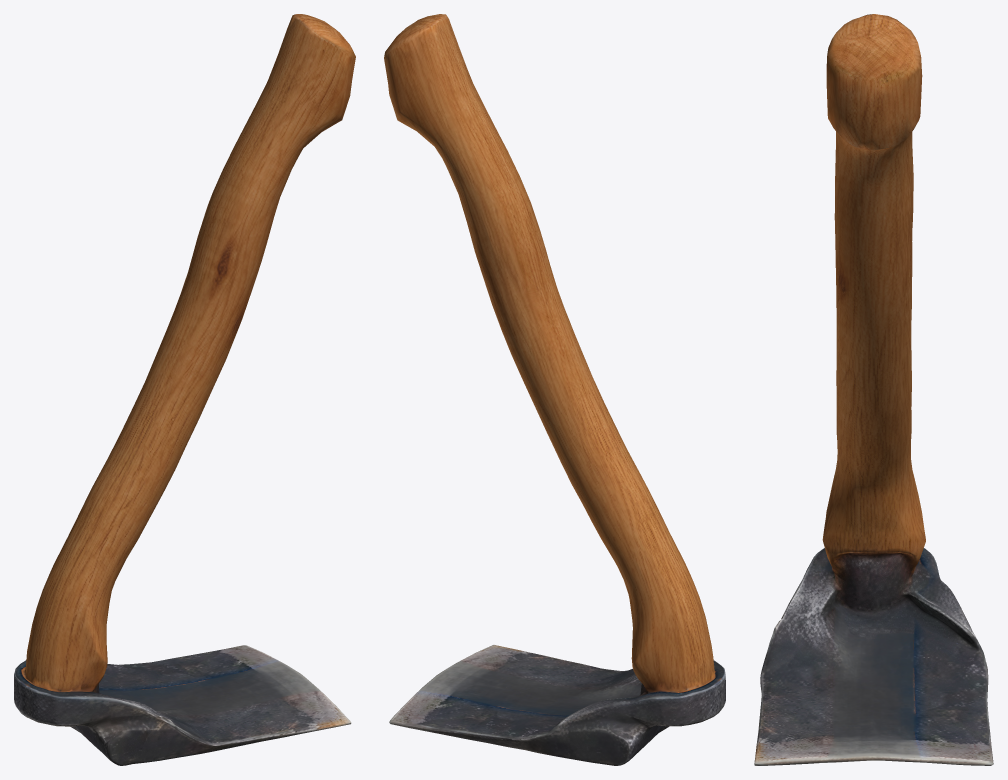
The model's file is tripo_convert_a5d09808-f4df-407c-b303-ae4b51be2f3b(Pacul).fbx.
3 views of the same model, side by side, from view 1: azimuth 30°, elevation 25°; view 2: azimuth 150°, elevation 25°; view 3: azimuth 270°, elevation 25° (orthographic). The views are drawn at different scales.
Visible parts, largest first — view 1: tripo_node_a5d09808; view 2: tripo_node_a5d09808; view 3: tripo_node_a5d09808.
Boxes of the visible parts, x1,y1,x2,y2 form: tripo_node_a5d09808: (14,14,355,765); tripo_node_a5d09808: (384,14,725,765); tripo_node_a5d09808: (754,14,993,765).
Bounding box in the file's own units: 0.5018 × 0.9797 × 0.2818.
